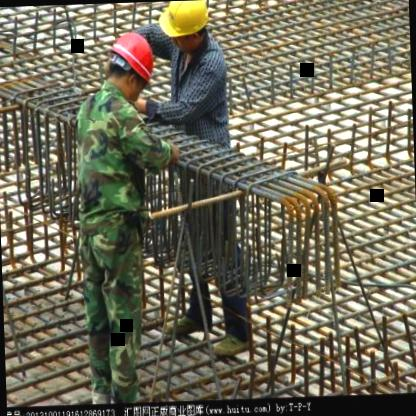helmet: (100, 25, 162, 108), (154, 0, 216, 57)
